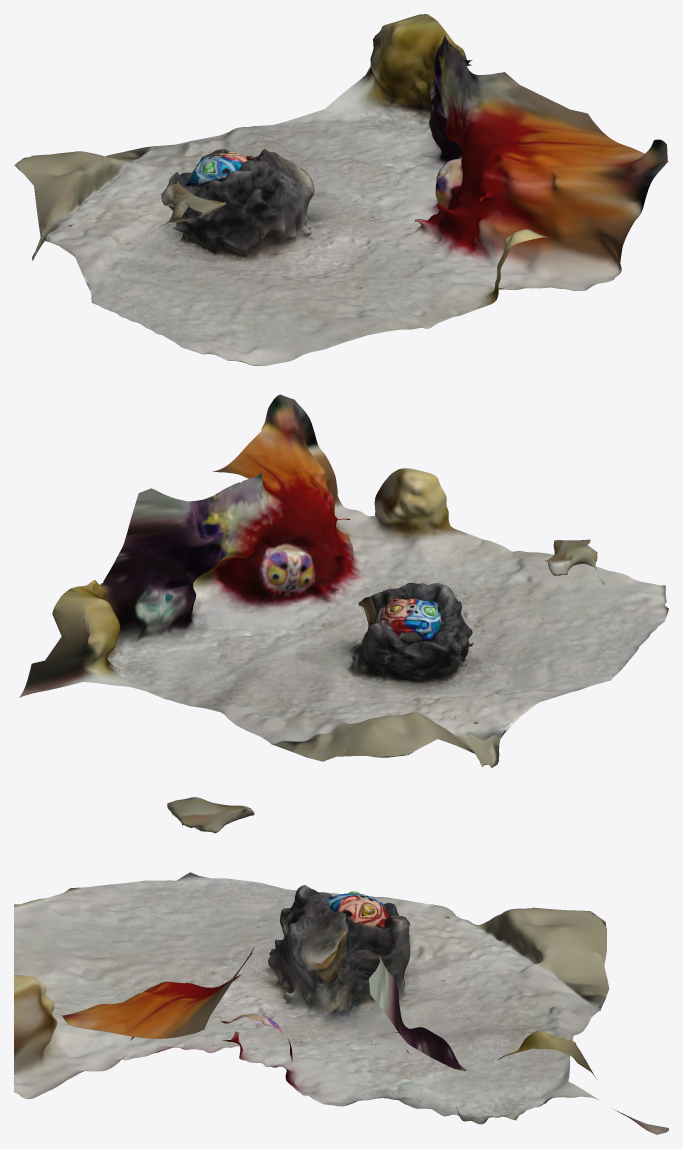
3 renders of one model, top to bottom at view 1: azimuth 30°, elevation 25°; view 2: azimuth 150°, elevation 25°; view 3: azimuth 270°, elevation 25°, orthographic. The views are drawn at different scales.
Size of the model in its own units: 3.15 by 1.1 by 3.49.
Materials: 1 (1 with a texture image).
